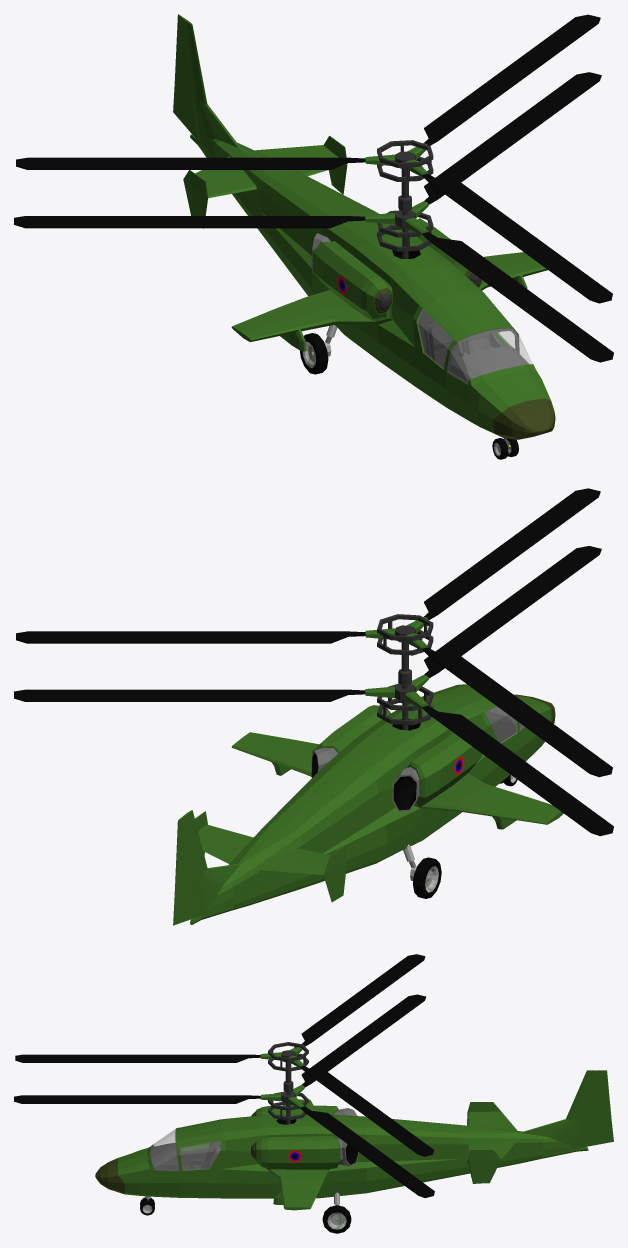
3 views of the same model, one above another, from view 1: azimuth 30°, elevation 25°; view 2: azimuth 150°, elevation 25°; view 3: azimuth 270°, elevation 25° (orthographic). The views are drawn at different scales.
Visible parts, largest first — view 1: Circle, Circle.008, Circle.006, Circle.004, Circle.003, Circle.001, Landing gear_RL.001, Circle.005; view 2: Circle, Circle.008, Circle.006, Circle.001, Landing gear_RL.001, Circle.003, Circle.002; view 3: Circle, Circle.008, Circle.006, Circle.001, Circle.010, Circle.004, Landing gear_RL.
Boxes of the visible parts, x1,y1,x2,y2 form: Circle: (183, 19, 555, 439); Circle.008: (14, 72, 613, 362); Circle.006: (16, 14, 612, 303); Circle.004: (446, 328, 532, 383); Circle.003: (413, 304, 456, 377); Circle.001: (173, 14, 197, 140); Landing gear_RL.001: (300, 325, 337, 374); Circle.005: (258, 145, 327, 157); Circle: (184, 684, 563, 924); Circle.008: (14, 546, 613, 836); Circle.006: (16, 488, 612, 777); Circle.001: (173, 815, 201, 925); Landing gear_RL.001: (403, 844, 441, 898); Circle.003: (480, 705, 518, 747); Circle.002: (258, 858, 325, 874); Circle: (95, 1070, 597, 1210); Circle.008: (14, 994, 434, 1197); Circle.006: (15, 954, 433, 1156); Circle.001: (577, 1070, 613, 1148); Circle.010: (177, 1139, 225, 1176); Circle.004: (150, 1129, 178, 1170); Landing gear_RL: (322, 1192, 351, 1233).
Bounding box in the file's own units: 1451 × 542 × 1812.
